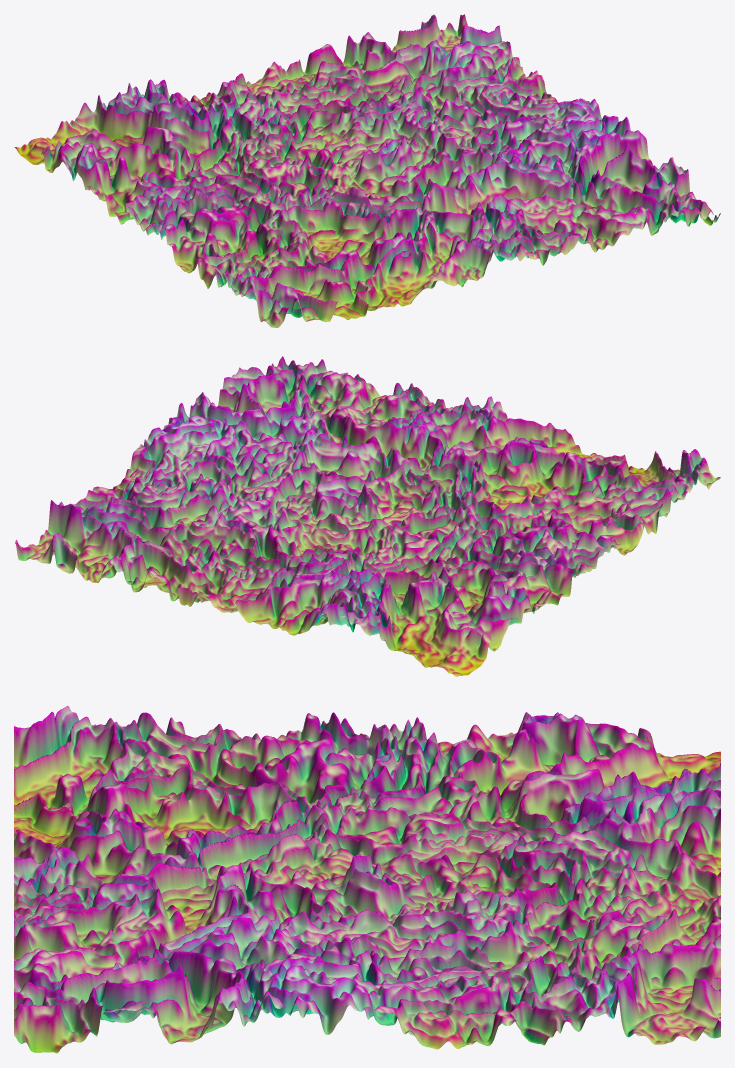
Rendered from terrain.glb.
3 renders of one model, top to bottom at view 1: azimuth 30°, elevation 25°; view 2: azimuth 150°, elevation 25°; view 3: azimuth 270°, elevation 25°, orthographic. The views are drawn at different scales.
Parts seen in each view (by area): view 1: PigmentRelief; view 2: PigmentRelief; view 3: PigmentRelief.
Boxes of the visible parts, box(x1,y1,x2,y2) form: PigmentRelief: box(14, 14, 720, 327); PigmentRelief: box(15, 356, 720, 676); PigmentRelief: box(14, 706, 720, 1053).
Size of the model in its own units: 200 by 21.34 by 200.
